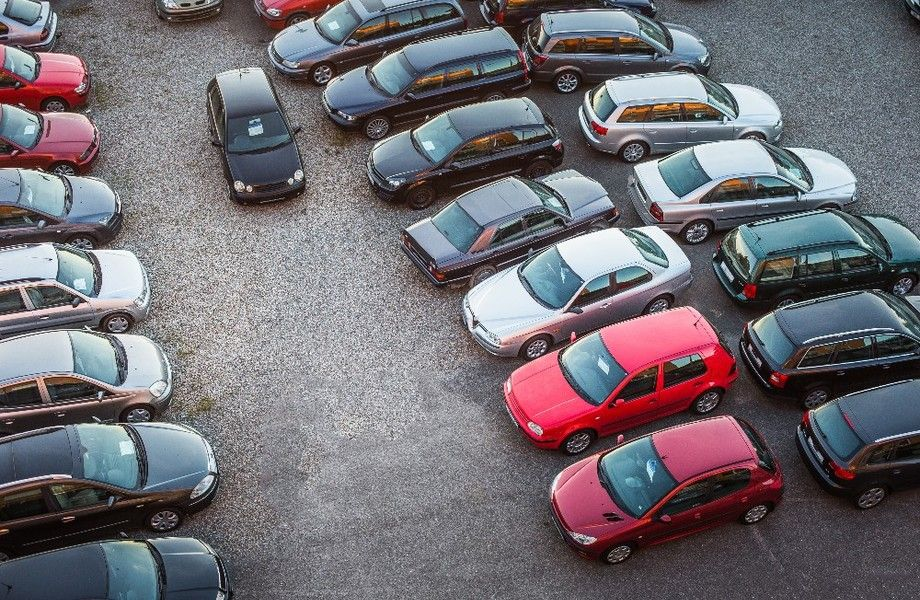Car: (548, 415, 785, 564), (503, 307, 738, 455), (462, 226, 691, 360), (0, 423, 220, 561), (401, 170, 620, 287), (628, 140, 858, 244), (322, 27, 531, 141), (367, 97, 565, 210), (740, 290, 920, 407), (712, 210, 920, 306), (0, 329, 173, 438), (577, 72, 784, 163), (267, 0, 468, 85), (796, 379, 920, 510), (521, 8, 711, 93), (0, 537, 232, 600), (0, 243, 152, 338), (205, 67, 307, 204), (0, 169, 124, 248), (479, 0, 657, 48), (0, 104, 101, 175), (0, 44, 91, 112), (0, 0, 59, 50), (254, 0, 341, 30), (147, 0, 227, 25), (902, 0, 920, 24)
